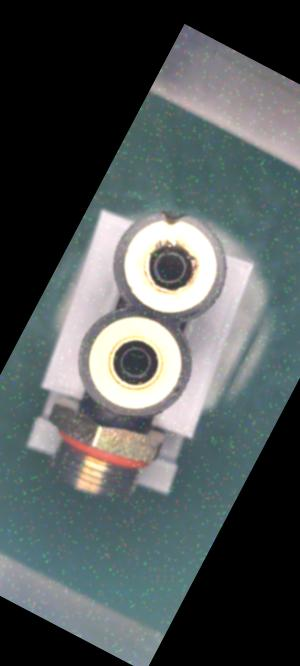bump: (150, 199, 189, 236)
craze: (104, 412, 120, 428)
